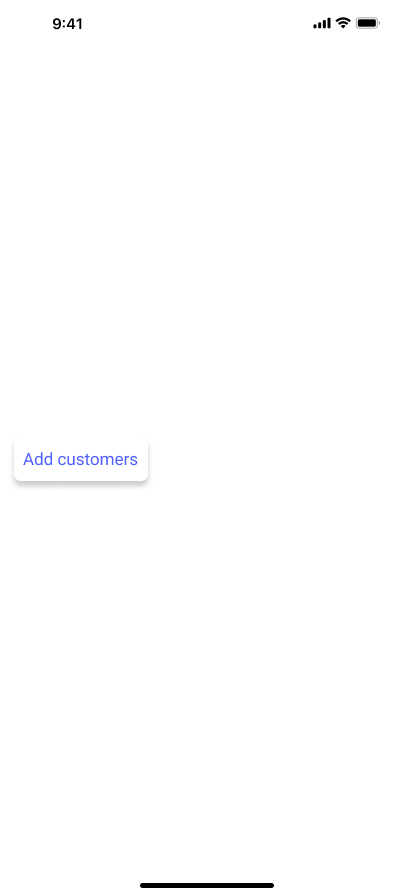Buttons: (8, 436, 154, 492)
Home Indicator: (0, 862, 414, 896)
Status Bar: (0, 0, 414, 44)
